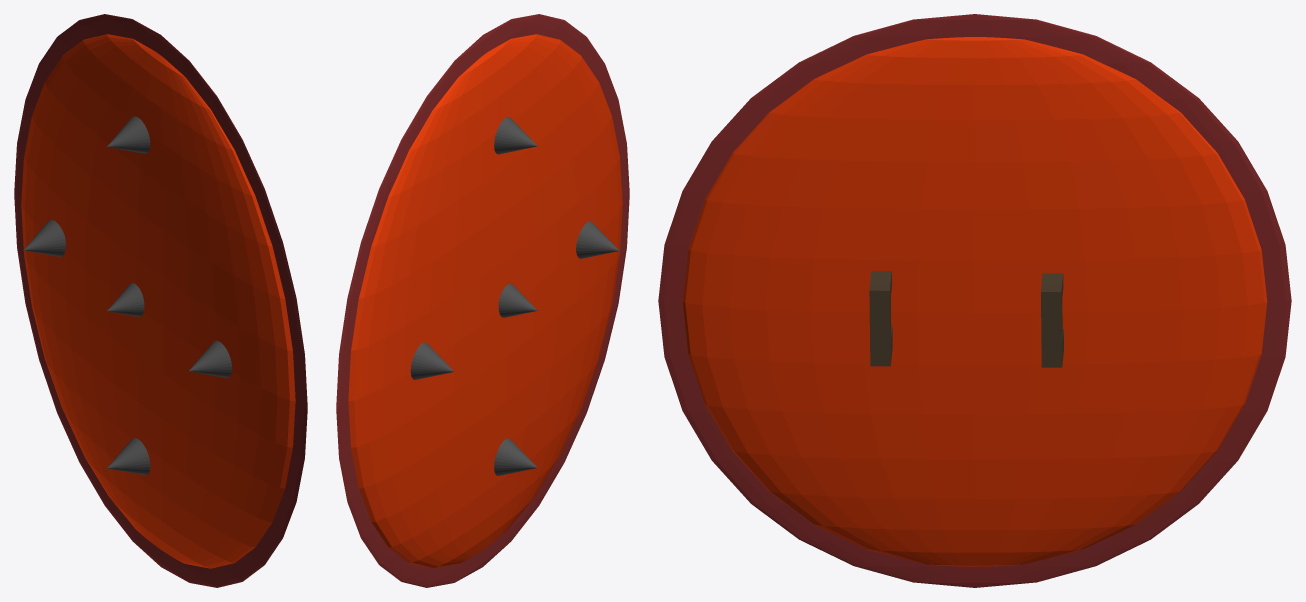
The model's file is escudo.fbx.
3 renders of one model, left to right at view 1: azimuth 30°, elevation 25°; view 2: azimuth 150°, elevation 25°; view 3: azimuth 270°, elevation 25°, orthographic. The views are drawn at different scales.
Visible parts, largest first — view 1: Cone.002; view 2: Cone.002; view 3: Cone.002.
Boxes of the visible parts, x1,y1,x2,y2 form: Cone.002: (14, 14, 307, 587); Cone.002: (336, 14, 629, 587); Cone.002: (658, 14, 1291, 587).
Bounding box in the file's own units: 52.27 × 221 × 221.
